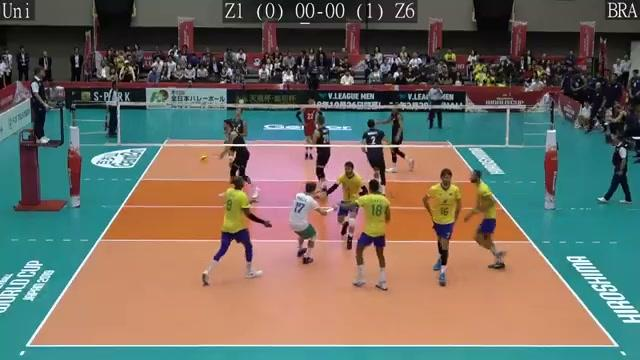ball: (199, 153, 212, 164)
